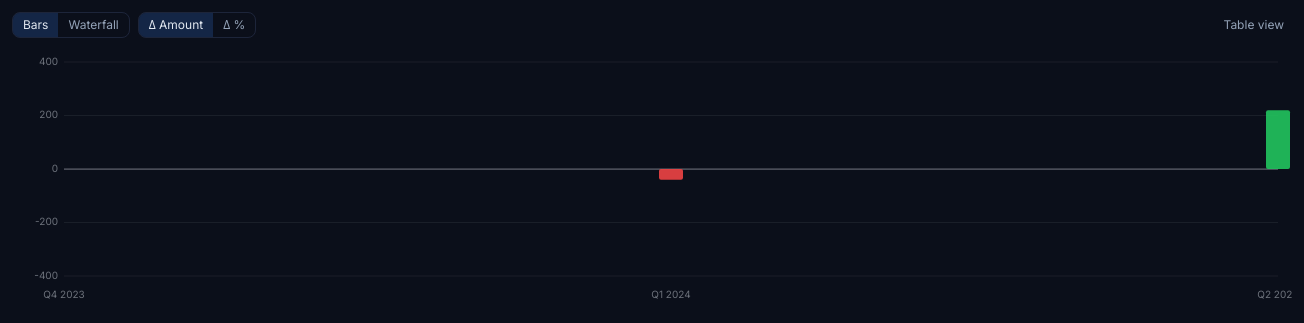
Test: DeltaTrendChart › renders diverging bars with an accessible label and a table view
Click the button "Table view" at (1254, 25), box [1216,13,1292,37]
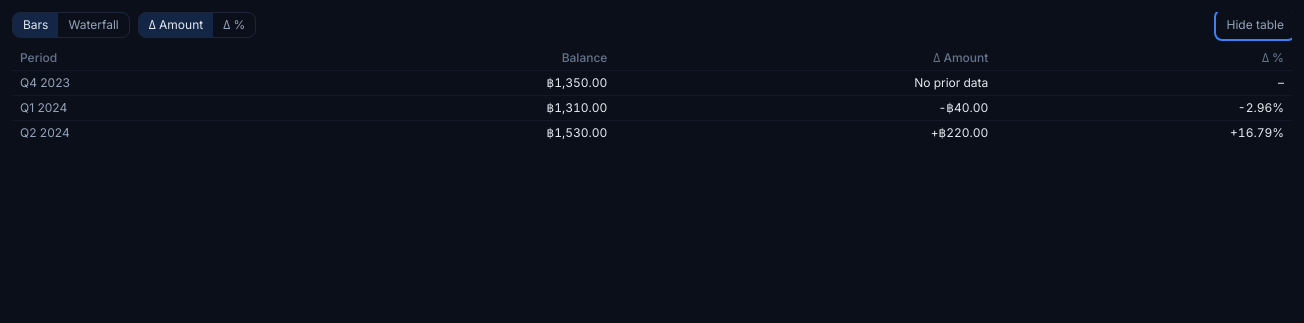
Result: the column heading "Δ Amount" is shown at [615,46,996,70]
Result: the text "No prior data" is shown at [615,70,996,96]
